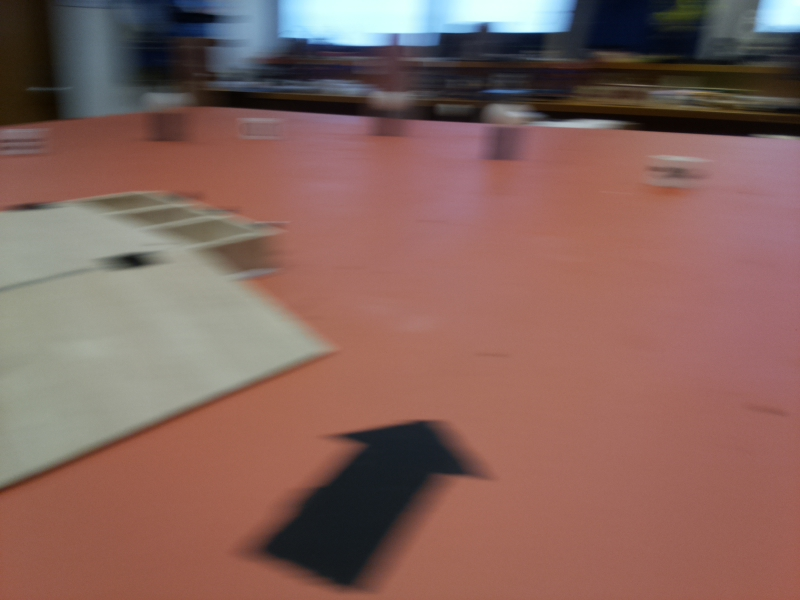obstacle: (473, 96, 523, 173), (148, 88, 179, 150), (373, 91, 400, 138)
side: (123, 189, 296, 253)
start: (254, 400, 502, 591)
